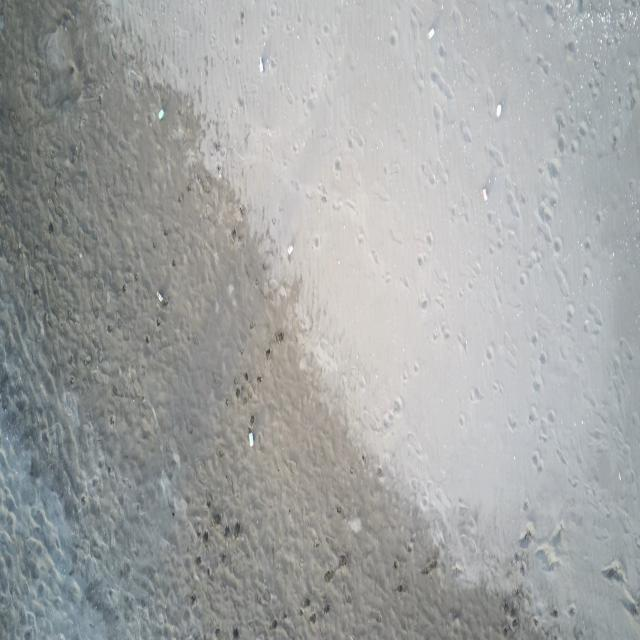tin-and-aluminum-cans: (427, 26, 436, 41), (496, 103, 503, 120), (156, 289, 164, 303), (248, 430, 254, 448), (258, 56, 264, 74), (483, 186, 489, 202), (158, 108, 165, 121)
